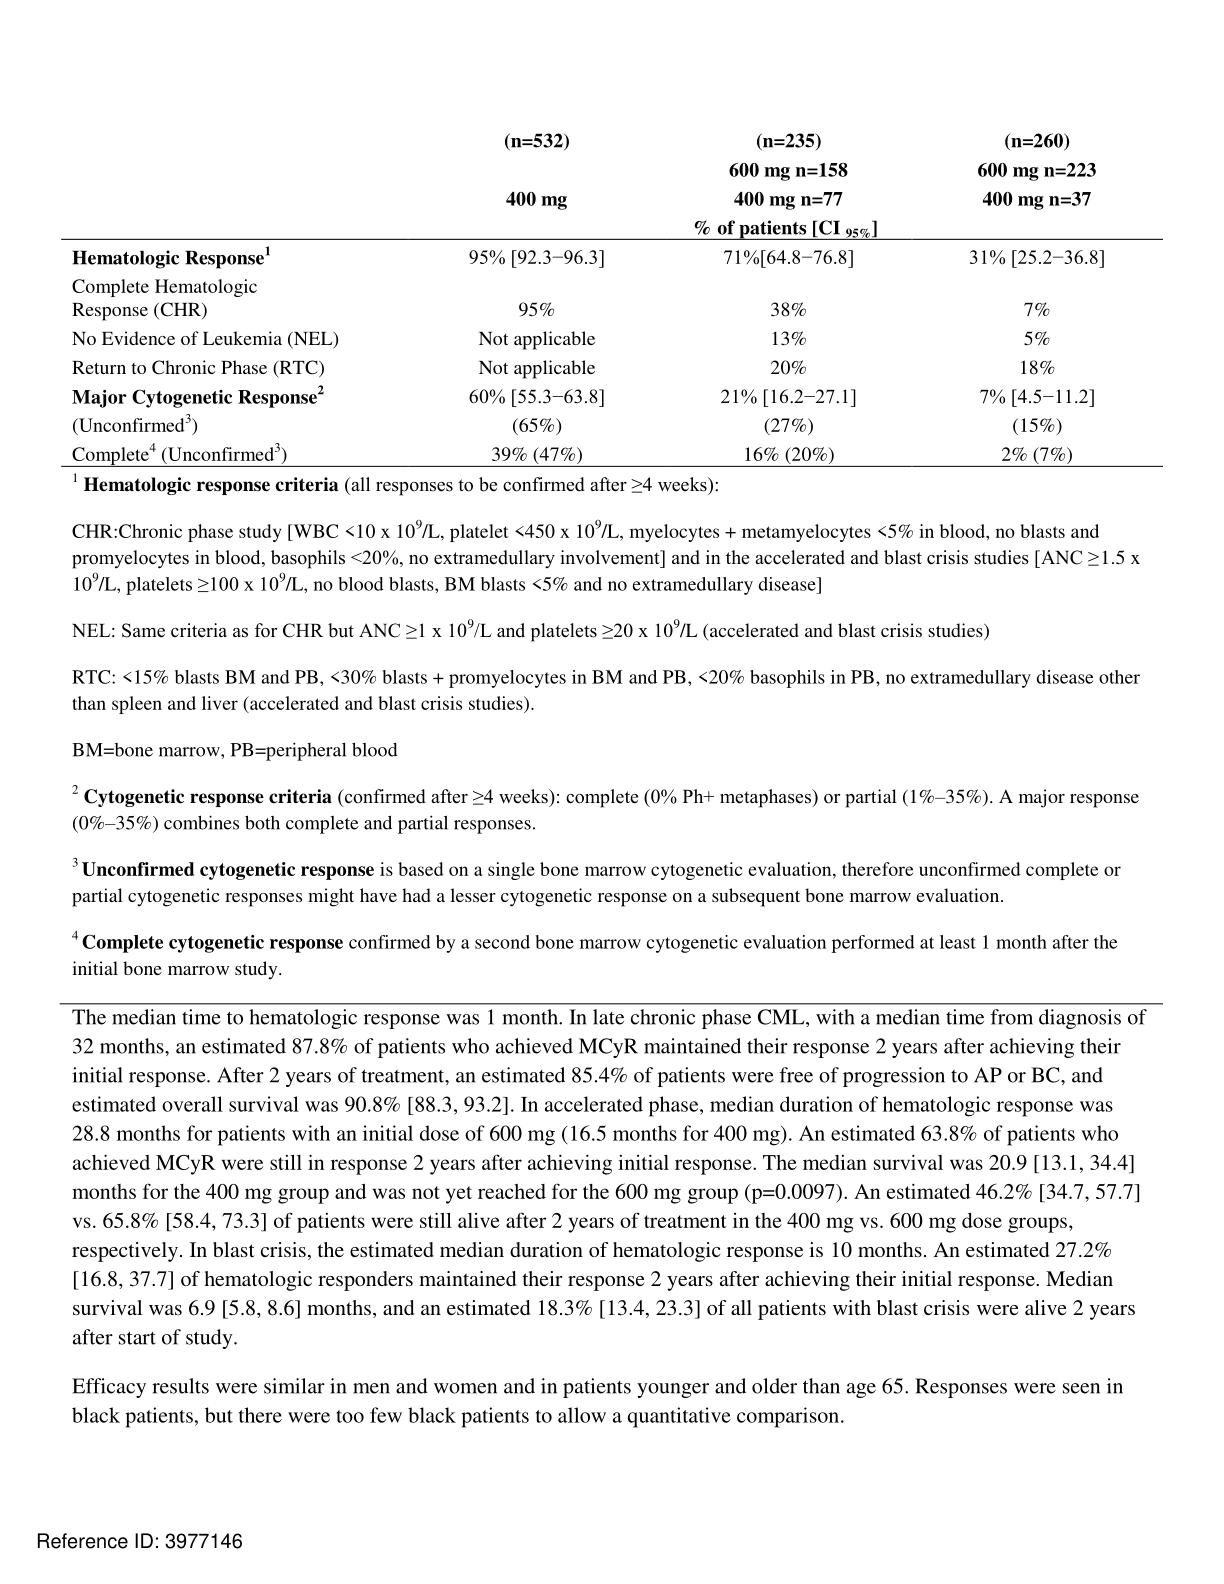partial_lined: (58, 123, 1166, 471)
